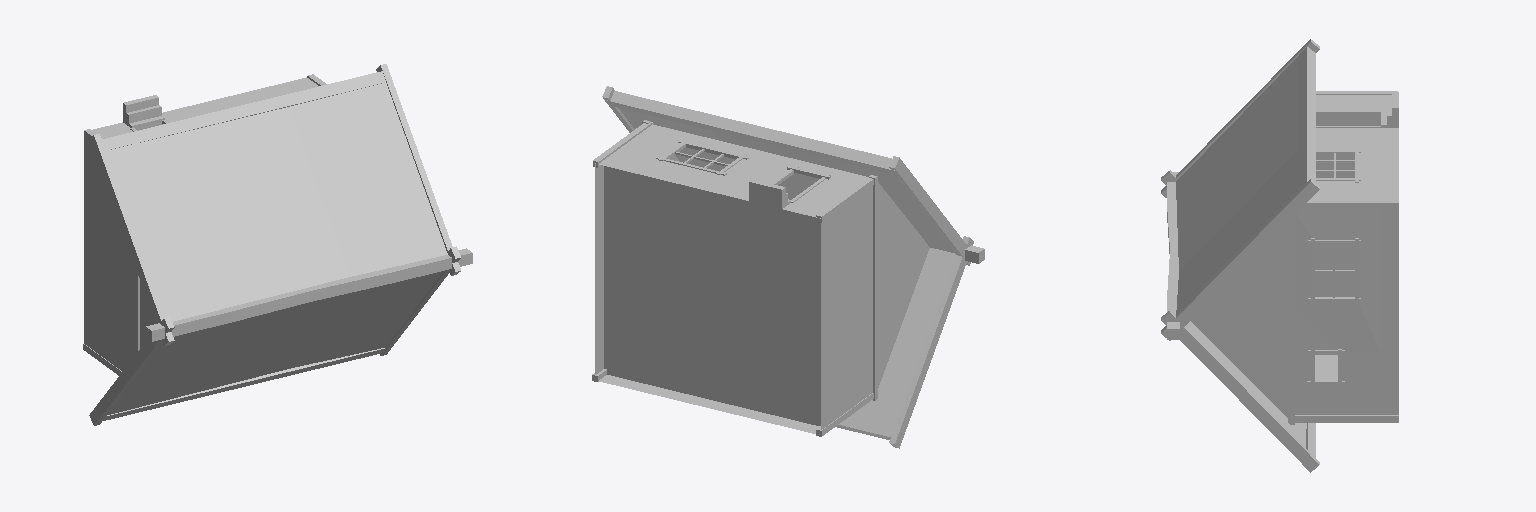
File: WoodHouse.obj
3 views of the same model, side by side, from view 1: azimuth 30°, elevation 25°; view 2: azimuth 150°, elevation 25°; view 3: azimuth 270°, elevation 25° (orthographic).
Parts seen in each view (by area): view 1: WoodHouse_Cube.021; view 2: WoodHouse_Cube.021; view 3: WoodHouse_Cube.021.
Boxes of the visible parts, <box> form: WoodHouse_Cube.021: <box>83,64,472,425</box>; WoodHouse_Cube.021: <box>592,86,984,448</box>; WoodHouse_Cube.021: <box>1161,39,1398,472</box>.
Size of the model in its own units: 19.05 by 16.52 by 12.26.